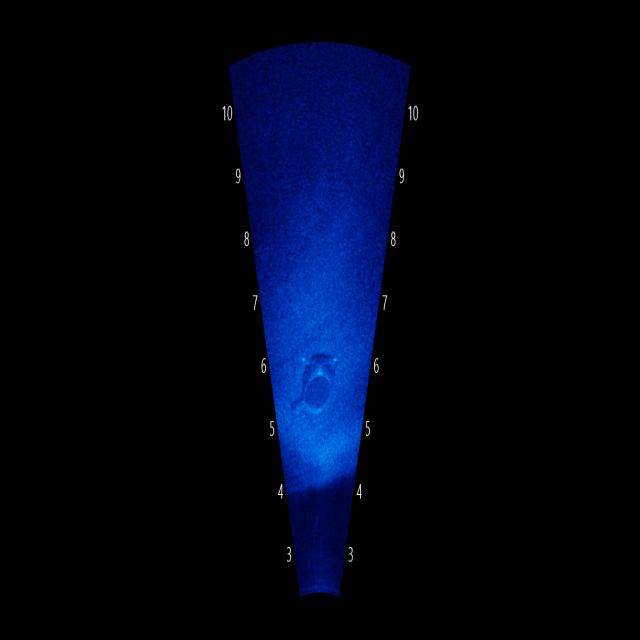circle: (301, 361, 338, 412)
